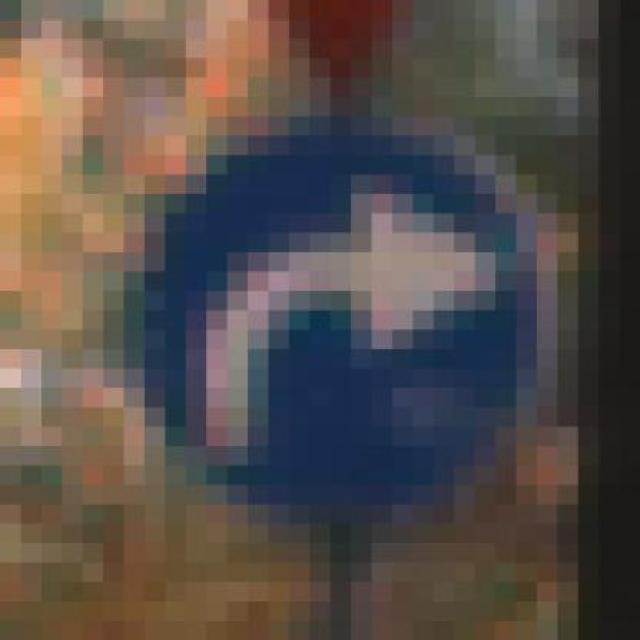Turn right ahead: (99, 102, 575, 530)
